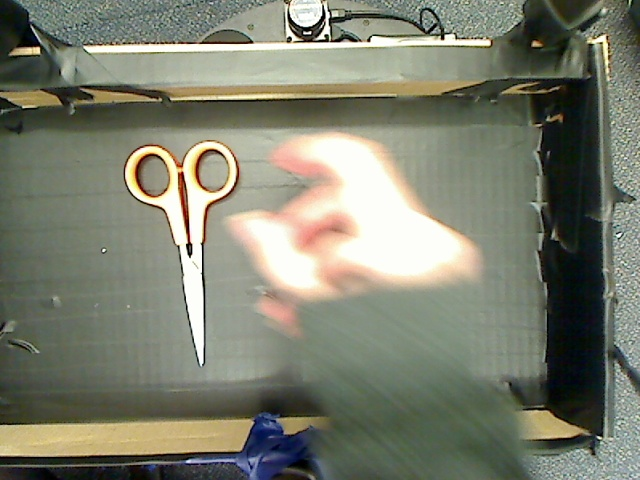scissors: (110, 130, 248, 384)
